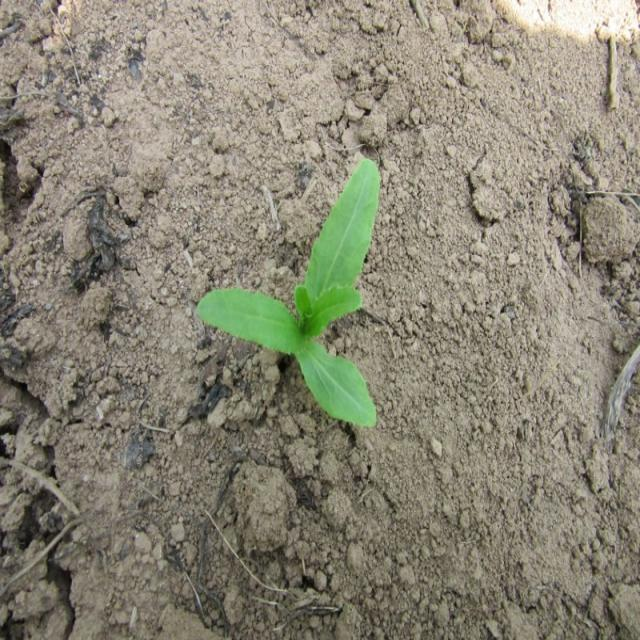field_thistle: (197, 158, 419, 472)
